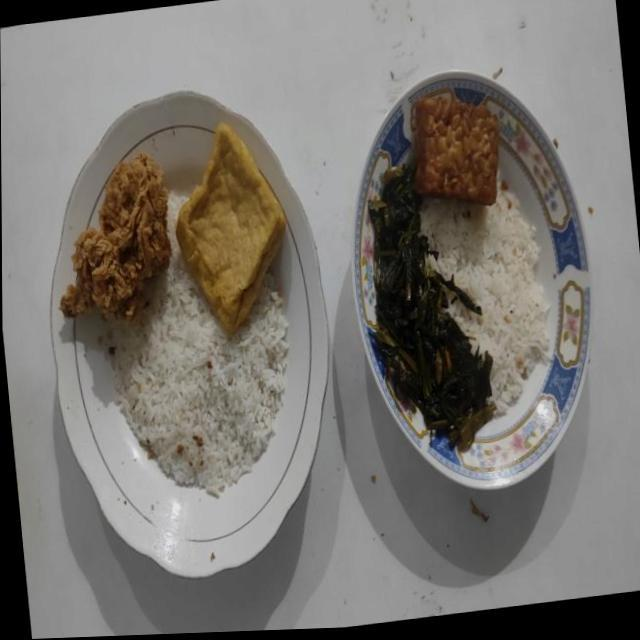nasi_putih: (98, 192, 292, 496), (421, 181, 549, 417)
tahu_goreng: (176, 122, 286, 333)
tempe_goreng: (410, 95, 500, 204)
tumis_kangkung: (368, 164, 496, 450)
